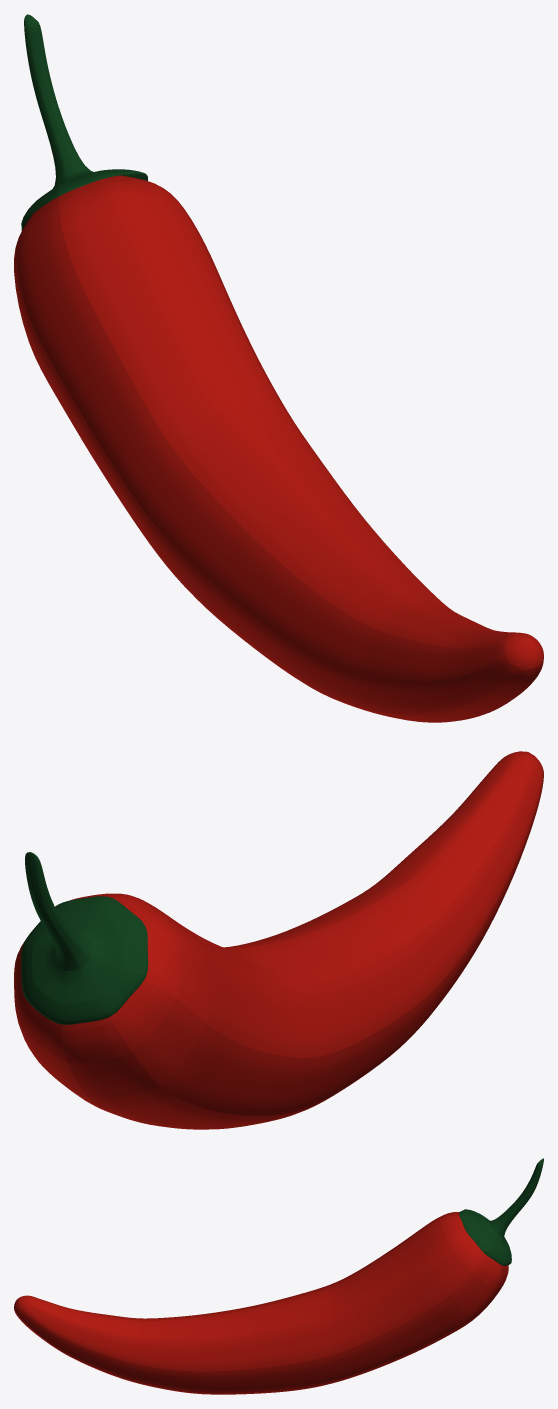
The model's file is red_pepper.fbx.
3 renders of one model, top to bottom at view 1: azimuth 30°, elevation 25°; view 2: azimuth 150°, elevation 25°; view 3: azimuth 270°, elevation 25°, orthographic. The views are drawn at different scales.
Visible parts, largest first — view 1: RedPepper; view 2: RedPepper; view 3: RedPepper.
Boxes of the visible parts, bbox=[...] form: RedPepper: bbox=[14, 14, 543, 722]; RedPepper: bbox=[14, 751, 543, 1129]; RedPepper: bbox=[14, 1158, 543, 1394].
Size of the model in its own units: 2.4 by 5.68 by 11.71.
